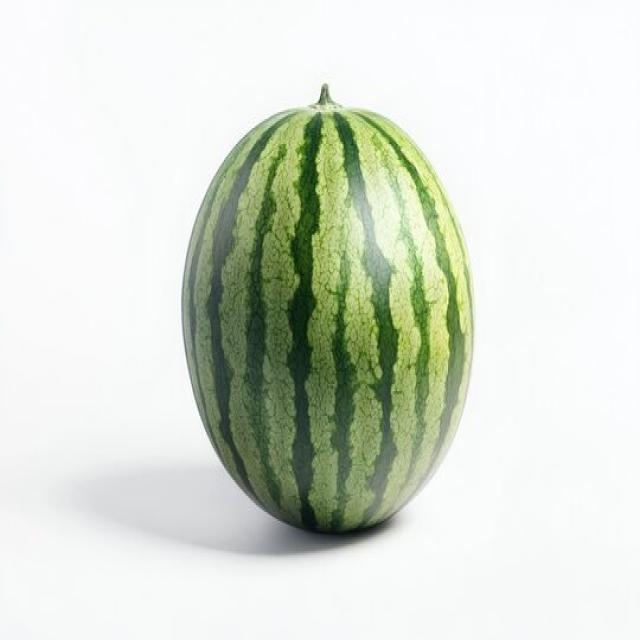Watermelon: (179, 99, 471, 526)
